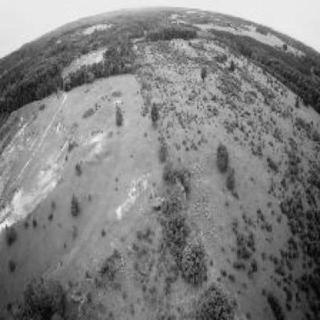other: (7, 152, 67, 214)
